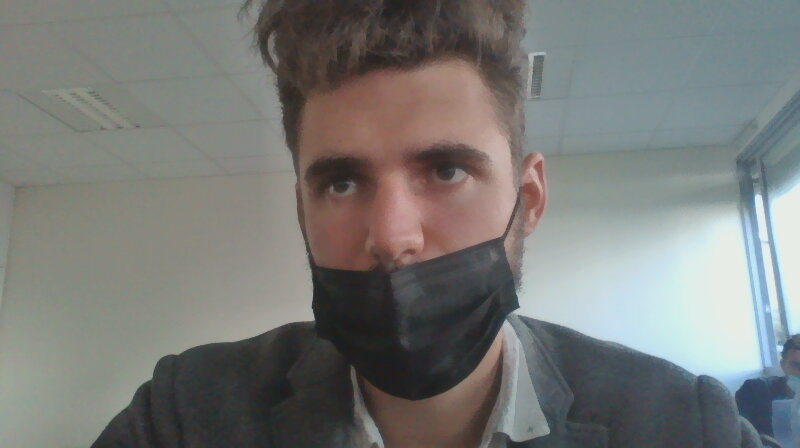with_incorrect_mask: (281, 62, 531, 395)
